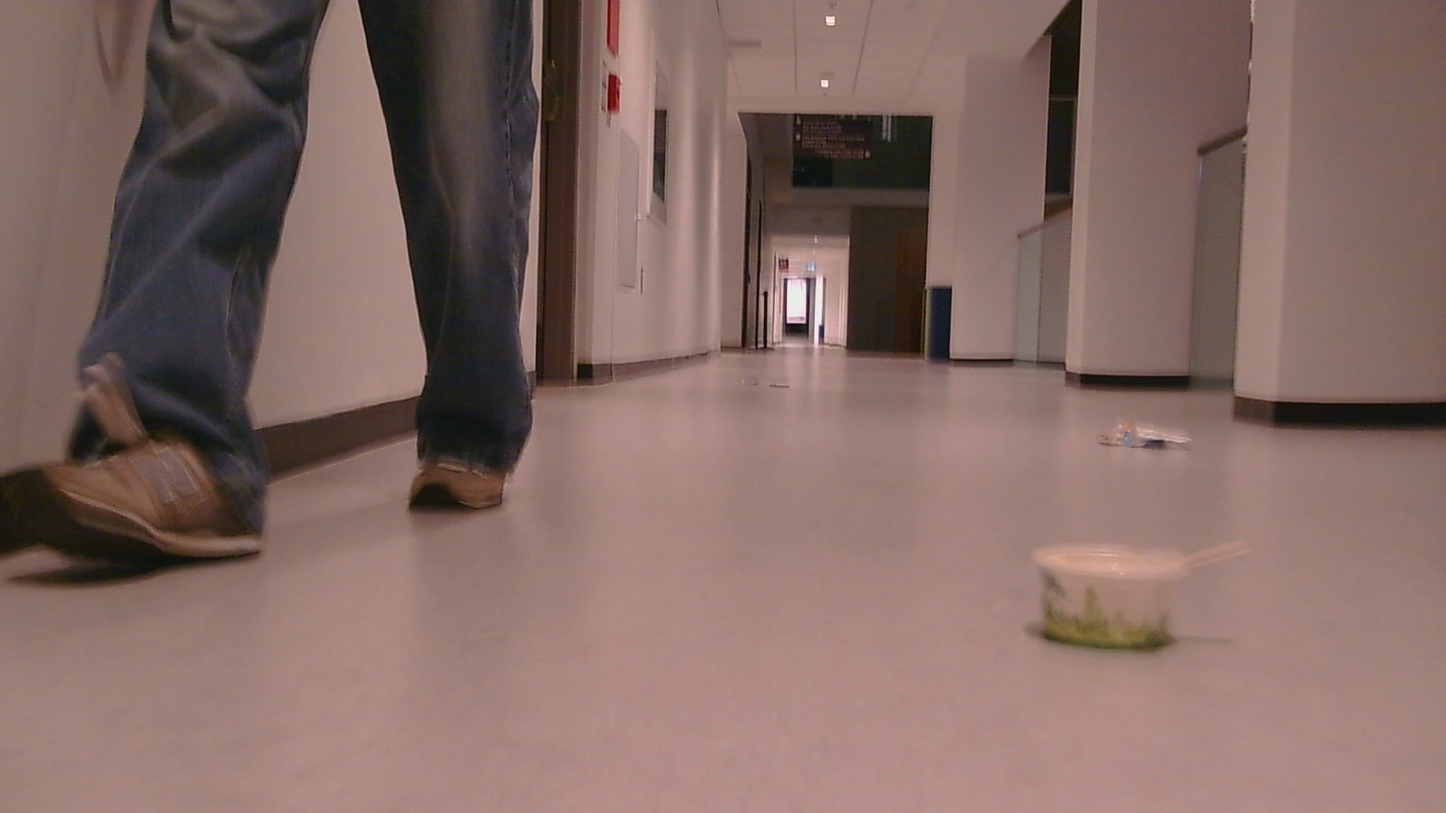carton: (1035, 521, 1277, 643), (1101, 413, 1211, 470), (767, 376, 811, 400), (749, 373, 757, 391)
